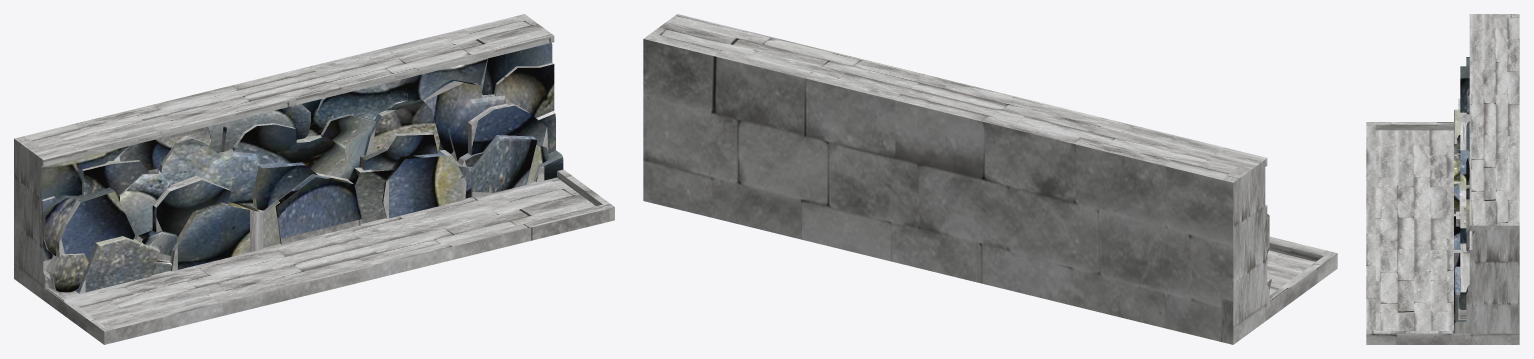
File: duckun.dae
3 views of the same model, side by side, from view 1: azimuth 30°, elevation 25°; view 2: azimuth 150°, elevation 25°; view 3: azimuth 270°, elevation 25° (orthographic). The views are drawn at different scales.
Parts seen in each view (by area): view 1: Unduck; view 2: Unduck; view 3: Unduck.
Boxes of the visible parts, x1=… form: Unduck: x1=14, y1=14, x2=614, y2=344; Unduck: x1=643, y1=14, x2=1337, y2=344; Unduck: x1=1366, y1=14, x2=1519, y2=344.
Bounding box in the file's own units: 80 × 24.5 × 21.
Materials: 1 (1 with a texture image).
